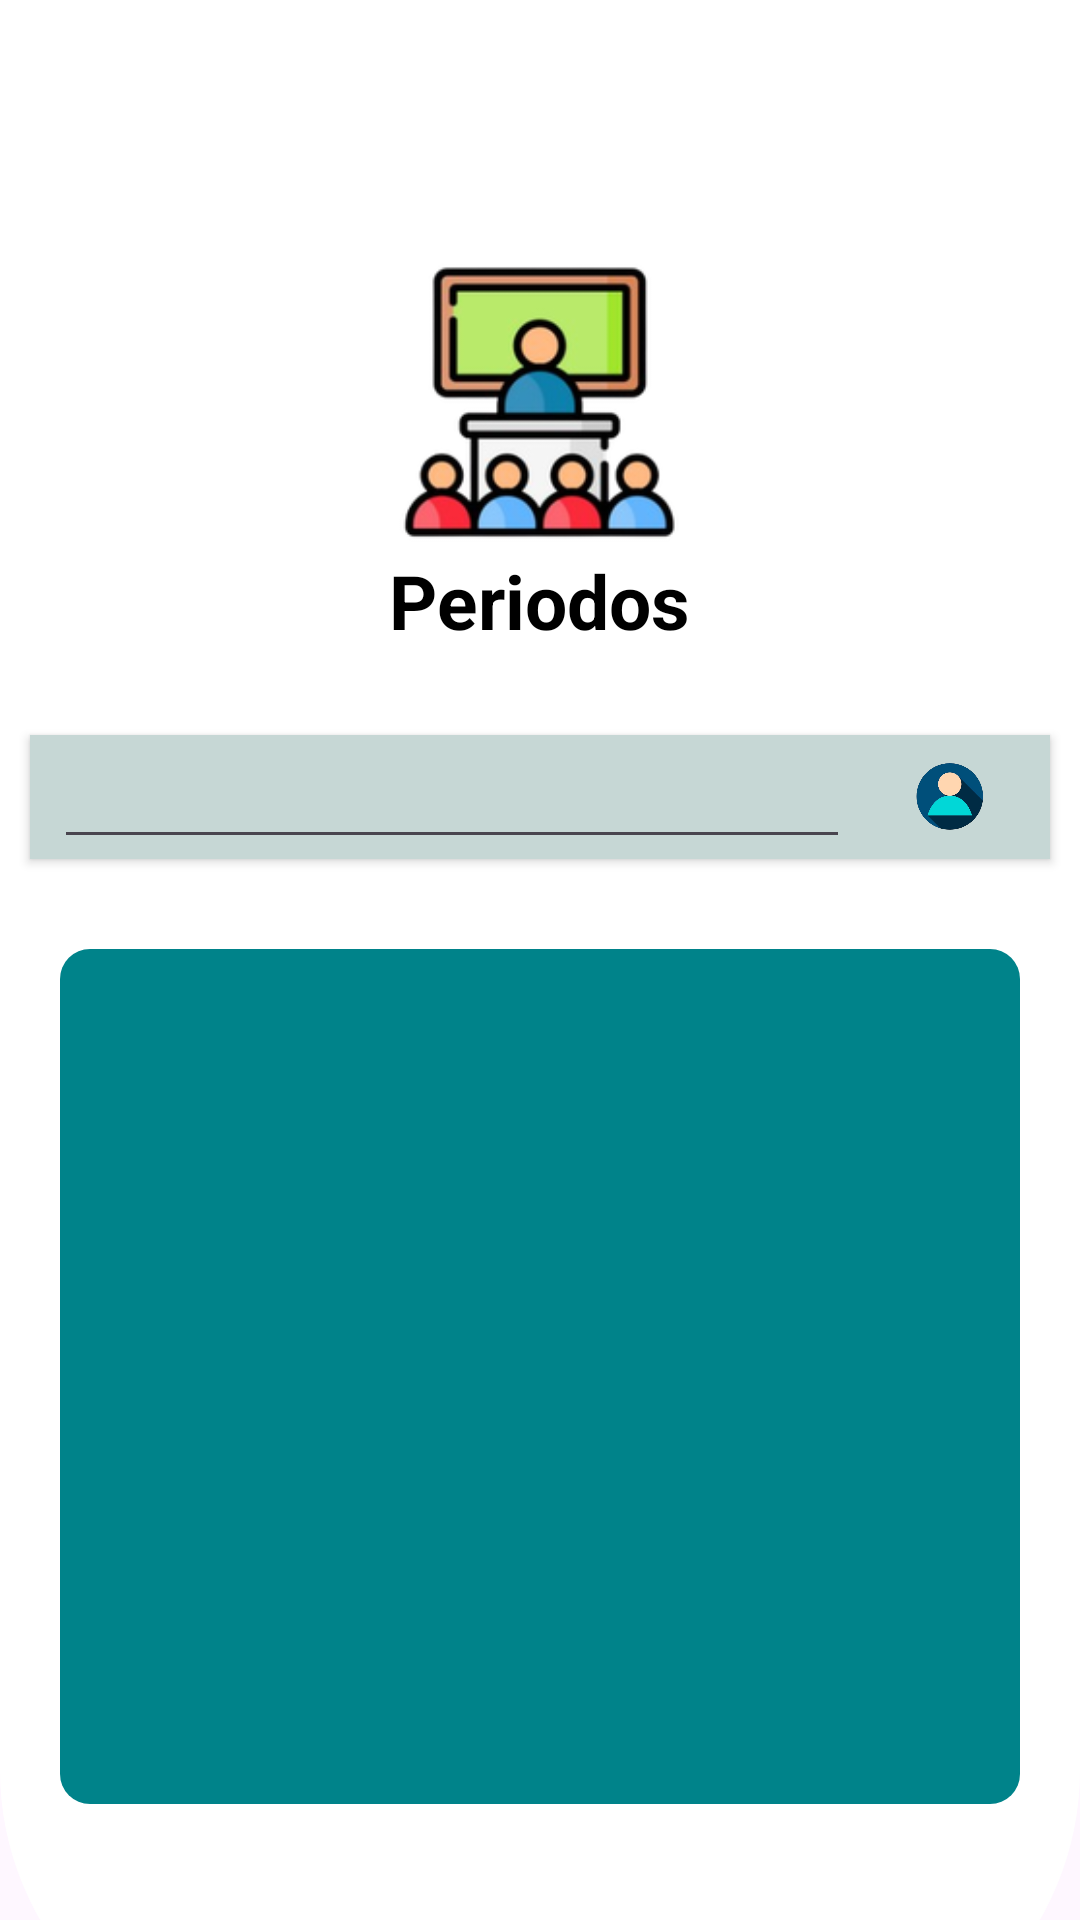

Icon click points for this 1080*1920 phone screenshot, format (x=x, y=y):
asignatura: (x=539, y=402)
usuario: (x=949, y=796)
